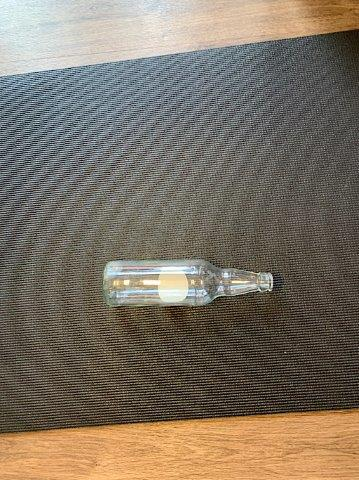botolkaca: (103, 260, 274, 307)
